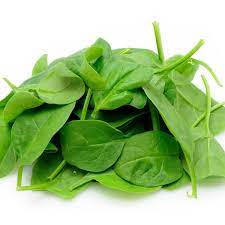spinach: (7, 47, 208, 194)
